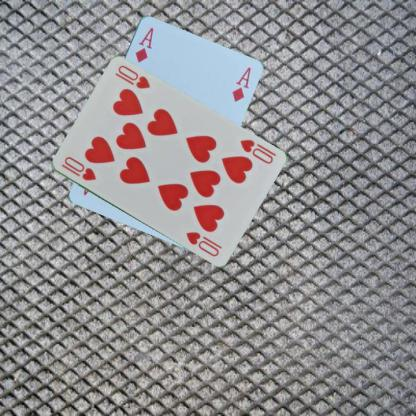10h: (58, 154, 98, 182), (237, 136, 274, 166)
Ad: (131, 24, 155, 64)
